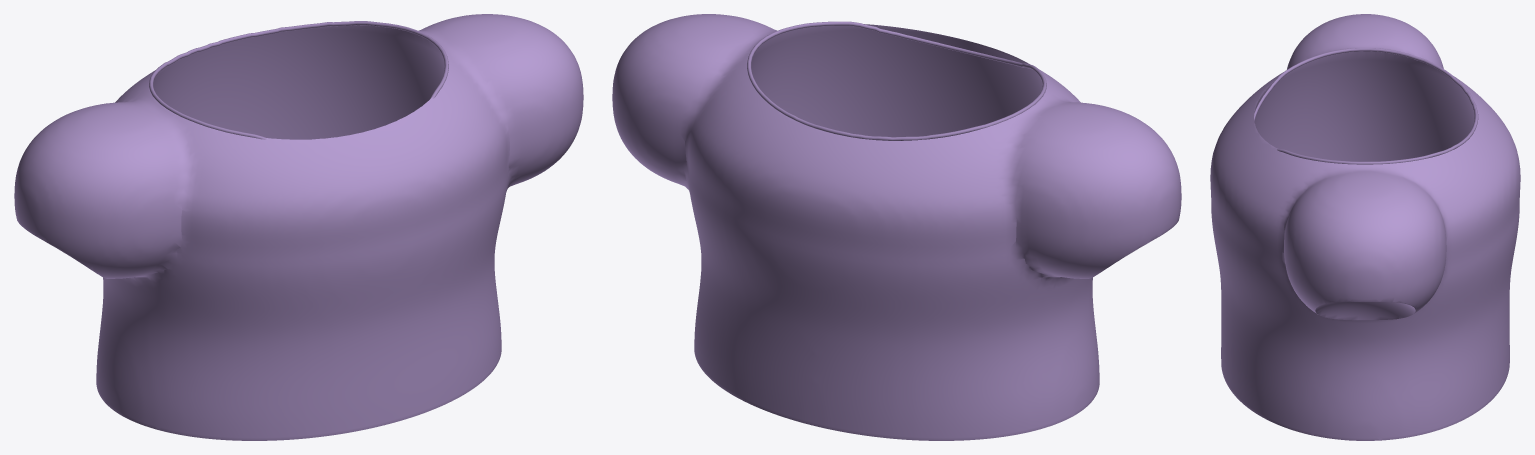
The model's file is Feminine-sweatshirt-top.glb.
3 renders of one model, left to right at view 1: azimuth 30°, elevation 25°; view 2: azimuth 150°, elevation 25°; view 3: azimuth 270°, elevation 25°, orthographic. The views are drawn at different scales.
Visible parts, largest first — view 1: Clothing / sweatshirt, sweatshirt neck binding export; view 2: Clothing / sweatshirt, sweatshirt neck binding export; view 3: Clothing / sweatshirt, sweatshirt neck binding export.
Part boxes in pixels (x1=…): Clothing / sweatshirt: x1=14, y1=14, x2=583, y2=440; sweatshirt neck binding export: x1=149, y1=21, x2=448, y2=139; Clothing / sweatshirt: x1=612, y1=14, x2=1181, y2=440; sweatshirt neck binding export: x1=747, y1=21, x2=1046, y2=140; Clothing / sweatshirt: x1=1210, y1=14, x2=1520, y2=440; sweatshirt neck binding export: x1=1254, y1=48, x2=1478, y2=164.
Size of the model in its own units: 1.06 by 0.5483 by 0.5947.
